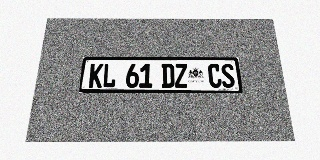1: (139, 64, 152, 88)
6: (125, 64, 139, 88)
C: (207, 64, 222, 88)
D: (161, 64, 174, 88)
K: (88, 64, 103, 88)
L: (102, 64, 116, 88)
S: (220, 64, 235, 88)
Z: (174, 64, 188, 88)
